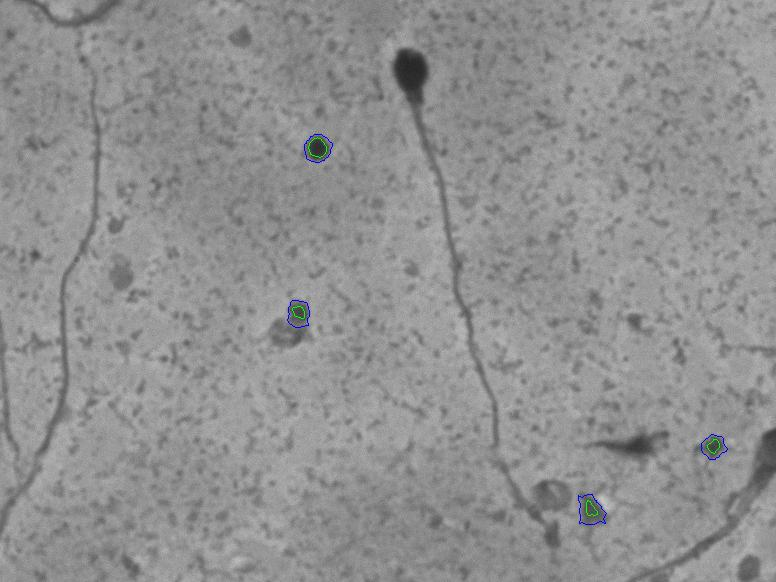Abnormal: (348, 28, 555, 505)
